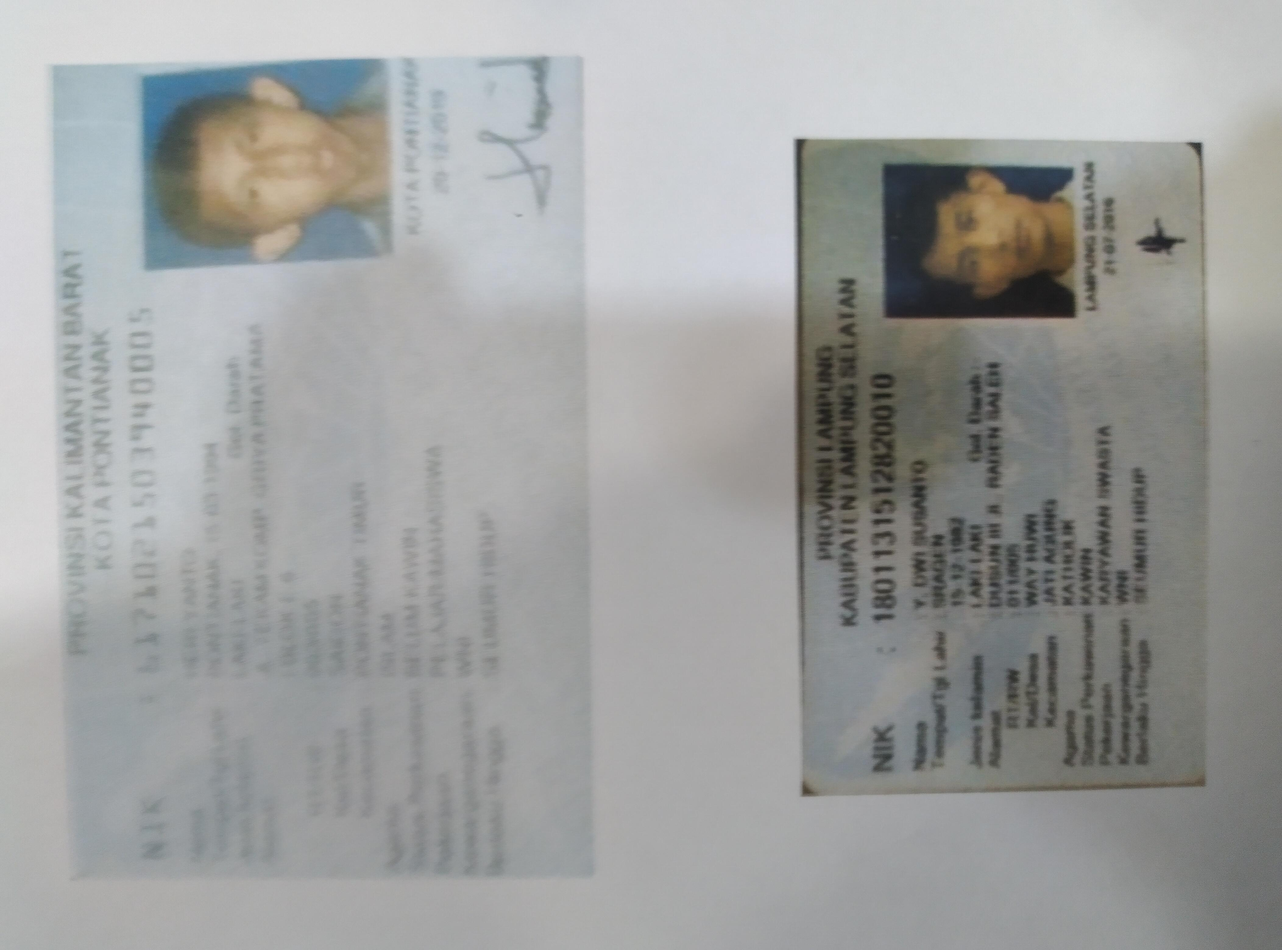ID-card: (98, 41, 1207, 438)
